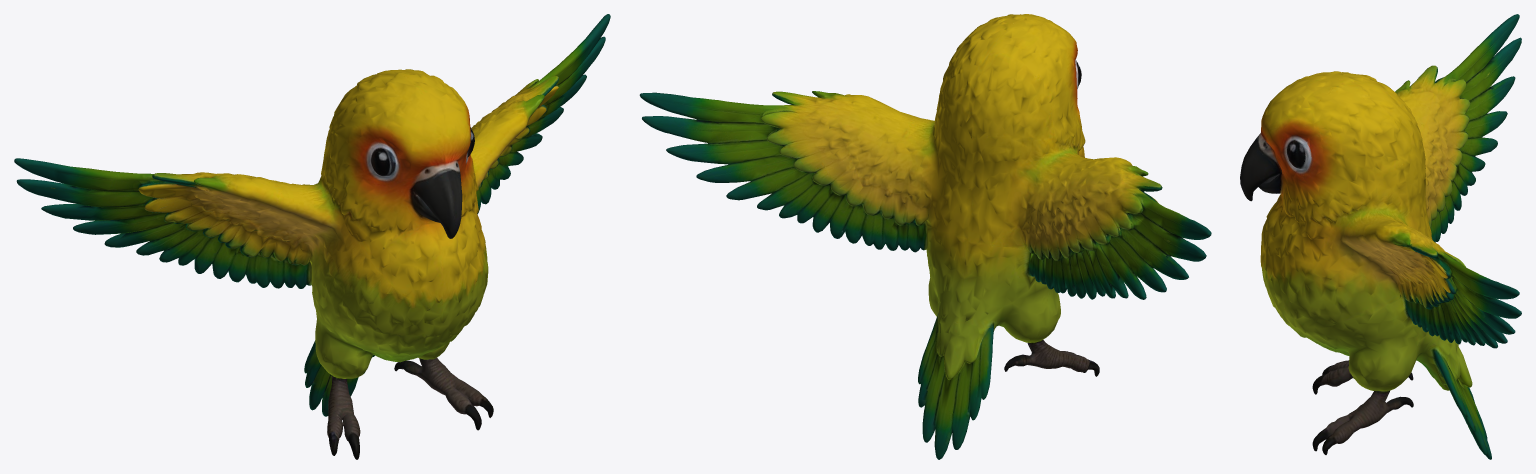
File: jade.glb
3 views of the same model, side by side, from view 1: azimuth 30°, elevation 25°; view 2: azimuth 150°, elevation 25°; view 3: azimuth 270°, elevation 25° (orthographic). The views are drawn at different scales.
Visible parts, largest first — view 1: otton; view 2: otton; view 3: otton.
Boxes of the visible parts, box(x1,y1,x2,y2) form: otton: box(14, 14, 610, 459); otton: box(639, 14, 1211, 459); otton: box(1240, 14, 1521, 459).
Size of the model in its own units: 0.9998 by 0.6369 by 0.4272.
1 material, 1 textured.
